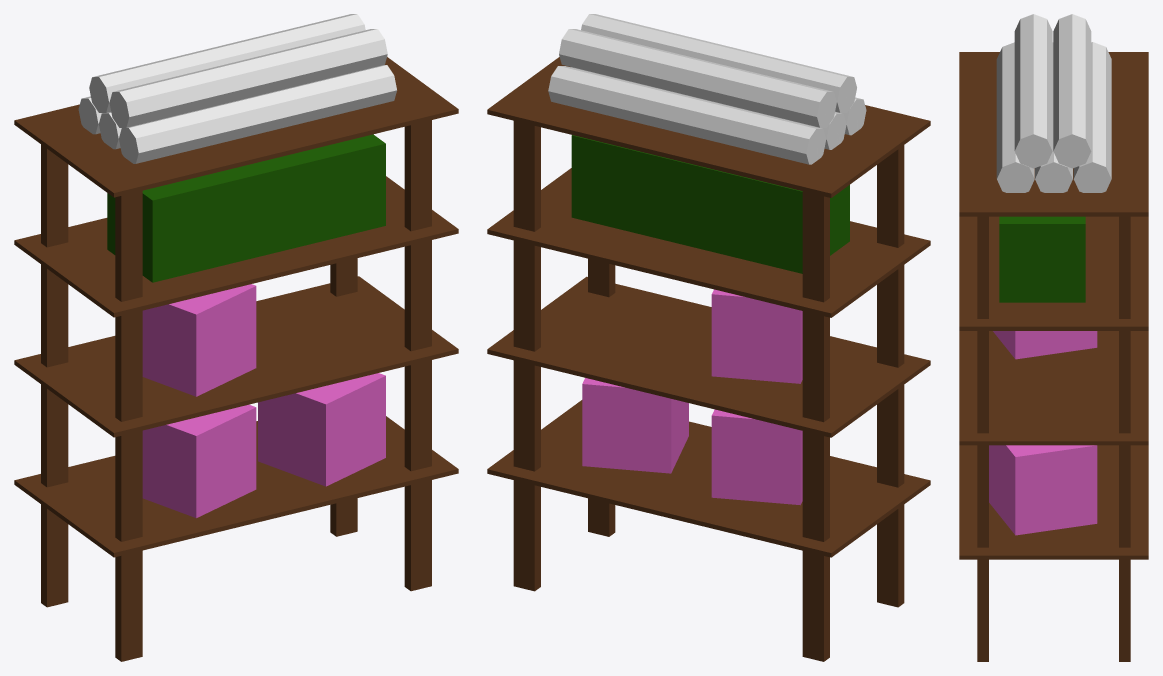
Rendered from MediumShelf.fbx.
The picture shows the model from 3 angles, left to right: view 1: azimuth 30°, elevation 25°; view 2: azimuth 150°, elevation 25°; view 3: azimuth 270°, elevation 25°; orthographic projection. The views are drawn at different scales.
Parts seen in each view (by area): view 1: Shelf Medium; view 2: Shelf Medium; view 3: Shelf Medium.
Boxes of the visible parts, x1,y1,x2,y2 form: Shelf Medium: [14, 14, 458, 661]; Shelf Medium: [487, 14, 930, 661]; Shelf Medium: [959, 14, 1148, 661].
Size of the model in its own units: 400 by 601 by 200.
